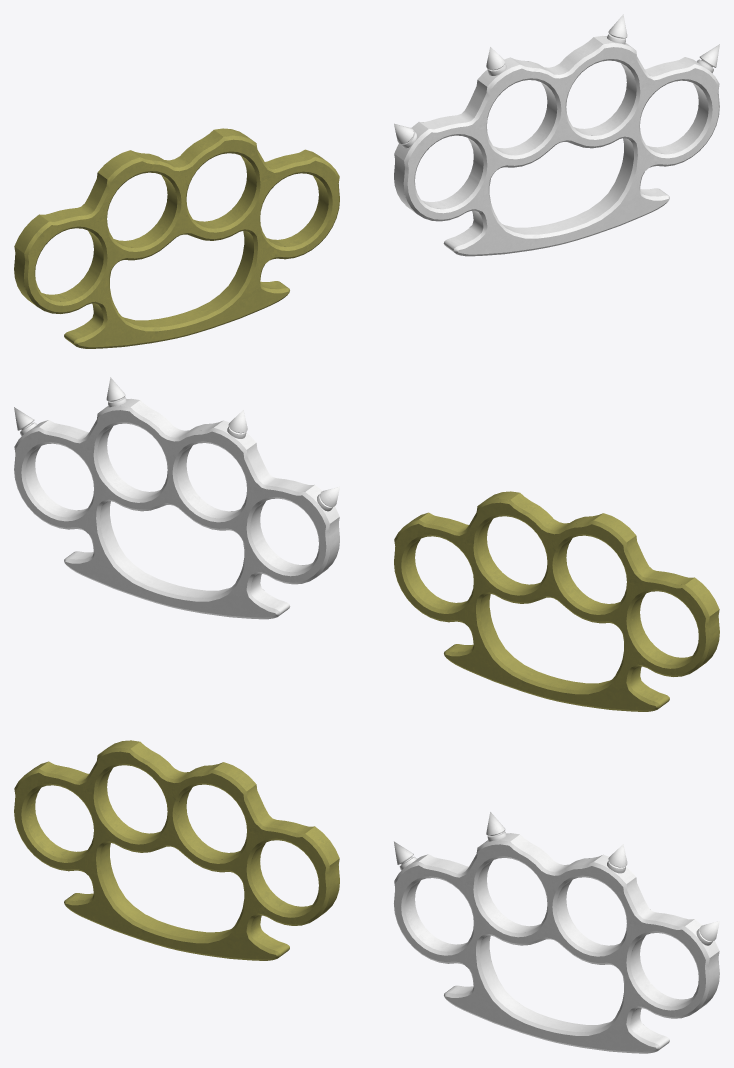
The model's file is brass_and_steel_knuckles.glb.
3 renders of one model, top to bottom at view 1: azimuth 30°, elevation 25°; view 2: azimuth 150°, elevation 25°; view 3: azimuth 330°, elevation 25°, orthographic.
Visible parts, largest first — view 1: Object_3, Object_2; view 2: Object_3, Object_2; view 3: Object_3, Object_2.
Part boxes in pixels (box(x1,y1,x2,y2)): Object_3: box(394, 14, 719, 256); Object_2: box(14, 128, 339, 348); Object_3: box(14, 377, 339, 619); Object_2: box(394, 491, 719, 711); Object_3: box(394, 812, 719, 1053); Object_2: box(14, 740, 339, 960).
Bounding box in the file's own units: 0.2769 × 0.0795 × 0.00875.
2 materials, 2 textured.
